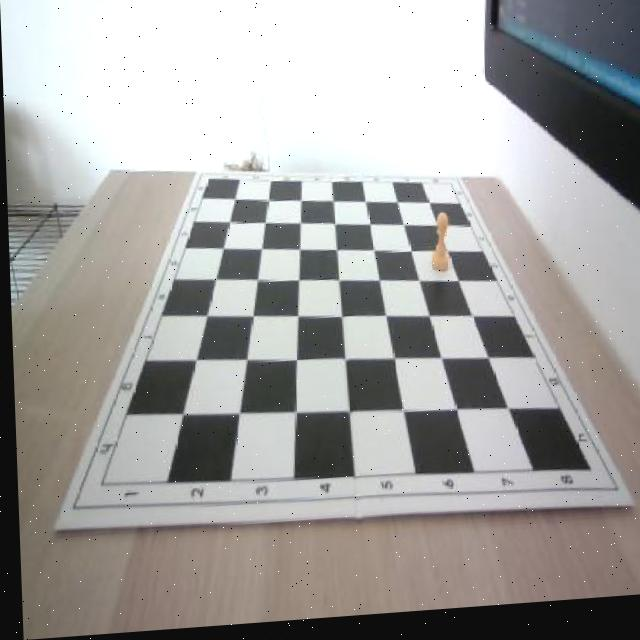white-knight: (427, 219, 449, 279)
